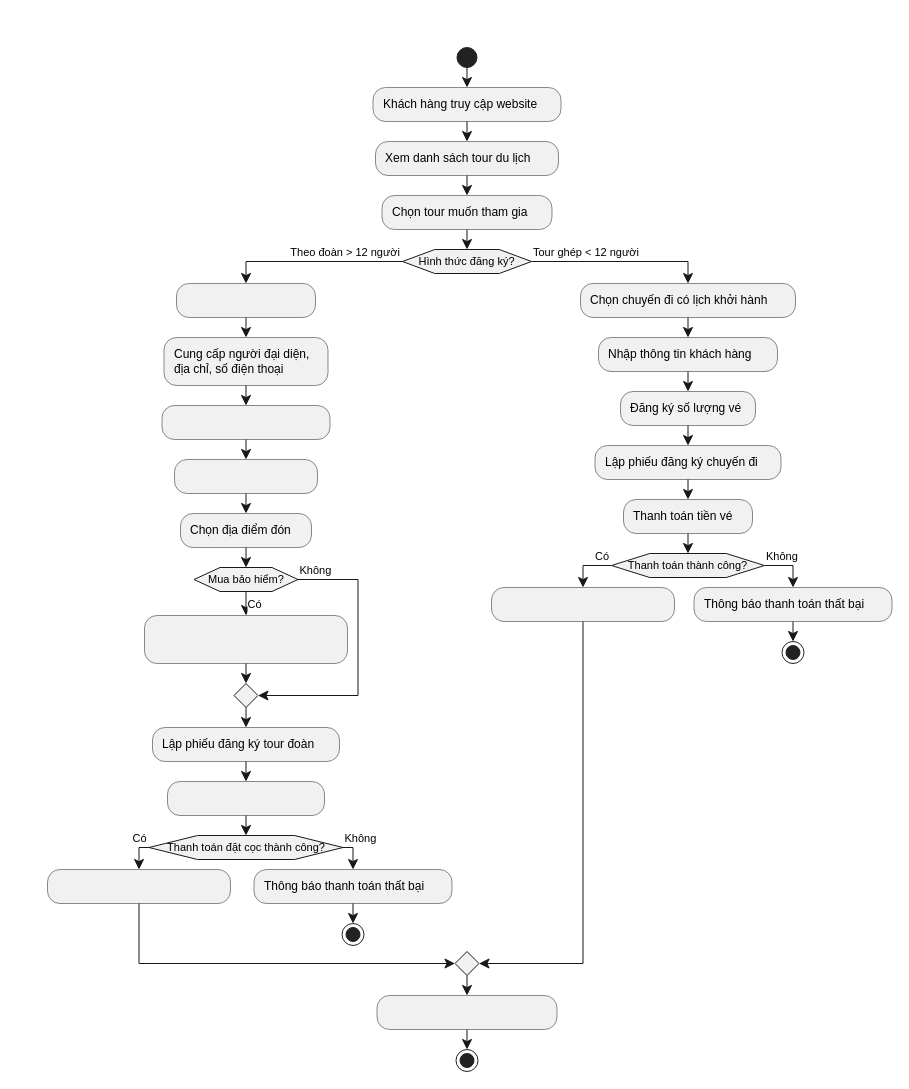
This 909x1089 diagram has some shape labels left out. Each missing label, with the centre of its shape:
Chọn ngày khởi hành: the point at 245,476
Cung cấp danh sách thành viên và thông tin bảo hiểm: the point at 245,639
Nhập số lượng thành viên: the point at 245,422
Nhập thông tin đoàn: the point at 245,300
Thanh toán tiền đặt cọc: the point at 245,798
Thông báo kết quả đăng ký: the point at 466,1012
Xác nhận đăng ký chuyến đi: the point at 582,604
Xác nhận đăng ký tour đoàn: the point at 138,886
